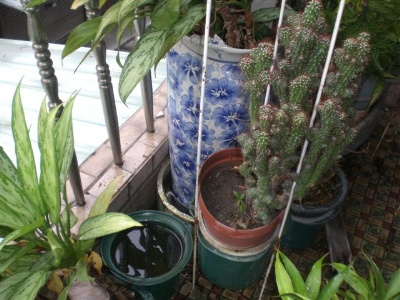bottle: (166, 35, 258, 208)
bowl: (99, 209, 193, 296)
plate: (156, 157, 196, 223)
